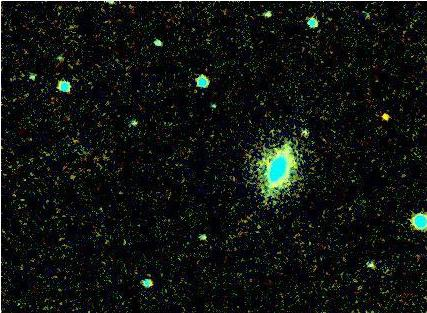star: (371, 99, 401, 129)
